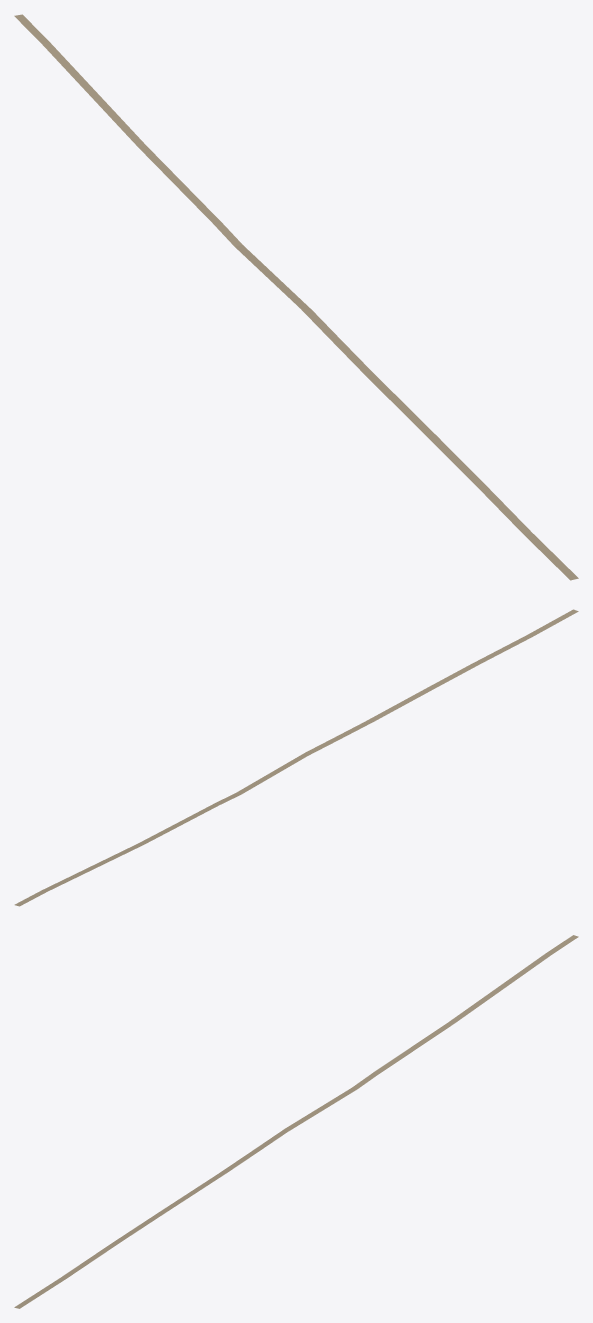
The model's file is farm_-8_9_track.glb.
3 views of the same model, one above another, from view 1: azimuth 30°, elevation 25°; view 2: azimuth 150°, elevation 25°; view 3: azimuth 330°, elevation 25° (orthographic). The views are drawn at different scales.
Visible parts, largest first — view 1: geometry_0; view 2: geometry_0; view 3: geometry_0.
Boxes of the visible parts, left/top/right/bottom form: geometry_0: left=14, top=14, right=578, bottom=580; geometry_0: left=14, top=609, right=578, bottom=906; geometry_0: left=14, top=935, right=578, bottom=1308.
Size of the model in its own units: 46.11 by 20.45 by 462.
